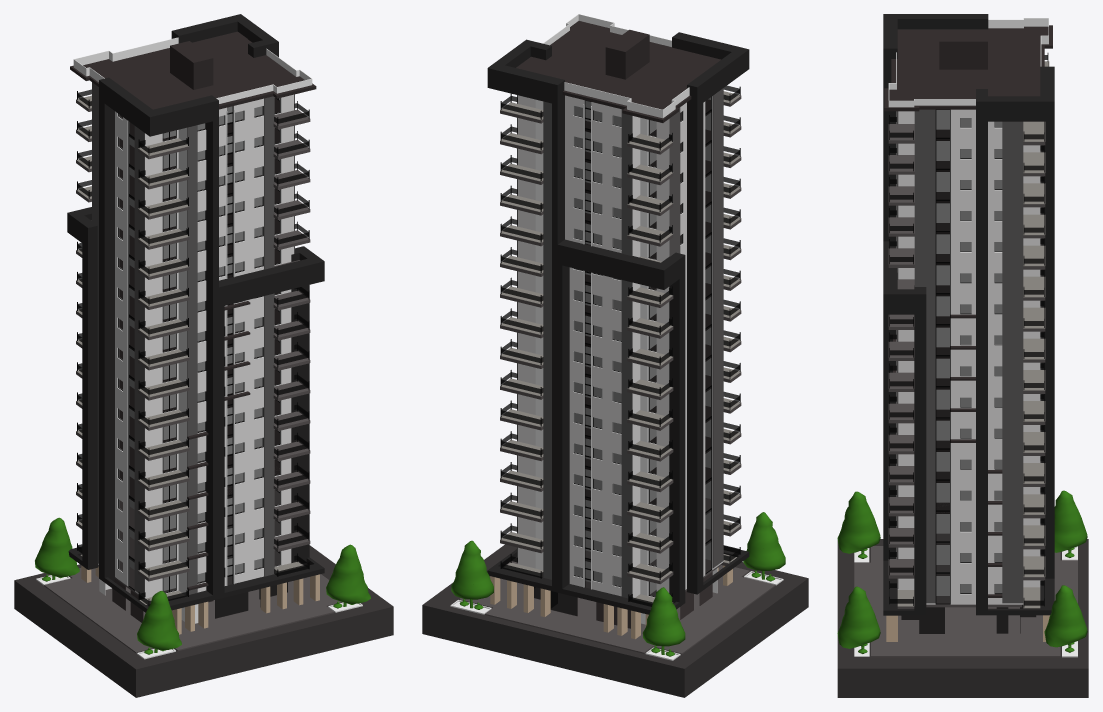
Rendered from building3.glb.
The picture shows the model from 3 angles, left to right: view 1: azimuth 30°, elevation 25°; view 2: azimuth 150°, elevation 25°; view 3: azimuth 270°, elevation 25°; orthographic projection. The views are drawn at different scales.
Parts seen in each view (by area): view 1: Box580, Box625, Box585_Wall Paint_0, Line216, Line217, Line213, Box589_Wall Paint_0, Box602, Box603, Box609, Line013, Line012 (+25 smaller); view 2: Box625, Box589_Wall Paint_0, Box580, Line216, Line213, Line217, Box588, Box609, Box607, Box606, Line014, Line015 (+23 smaller); view 3: Box588, Box625, Box605, Line217, Line213, Box585_Wall Paint_0, Line216, Box604, Box580, Box620, Foliage001, Foliage004 (+67 smaller).
Boxes of the visible parts, left/top/right/bottom form: Box580: left=99, top=77, right=218, bottom=612; Box625: left=14, top=545, right=393, bottom=697; Box585_Wall Paint_0: left=219, top=246, right=324, bottom=598; Line216: left=129, top=106, right=262, bottom=590; Line217: left=44, top=563, right=342, bottom=653; Line213: left=70, top=31, right=316, bottom=109; Box589_Wall Paint_0: left=67, top=207, right=98, bottom=569; Box602: left=264, top=96, right=274, bottom=576; Box603: left=187, top=125, right=197, bottom=594; Box609: left=134, top=126, right=144, bottom=597; Line013: left=115, top=185, right=293, bottom=236; Line012: left=115, top=215, right=293, bottom=266; Box625: left=422, top=544, right=808, bottom=697; Box589_Wall Paint_0: left=556, top=239, right=685, bottom=614; Box580: left=672, top=32, right=749, bottom=594; Line216: left=535, top=99, right=656, bottom=595; Line213: left=516, top=21, right=720, bottom=122; Line217: left=459, top=557, right=775, bottom=654; Box588: left=487, top=39, right=564, bottom=591; Box609: left=712, top=88, right=723, bottom=568; Box607: left=621, top=109, right=632, bottom=598; Box606: left=543, top=101, right=551, bottom=579; Line014: left=518, top=140, right=712, bottom=201; Line015: left=518, top=109, right=712, bottom=170; Box588: left=976, top=66, right=1054, bottom=615; Box625: left=837, top=539, right=1088, bottom=697; Box605: left=1002, top=121, right=1023, bottom=603; Line217: left=854, top=546, right=1077, bottom=657; Line213: left=884, top=25, right=1052, bottom=111; Box585_Wall Paint_0: left=883, top=241, right=926, bottom=615; Line216: left=936, top=110, right=1002, bottom=595; Box604: left=914, top=109, right=935, bottom=603; Box580: left=883, top=14, right=988, bottom=241; Box620: left=939, top=32, right=987, bottom=69; Foliage001: left=837, top=586, right=880, bottom=648; Foliage004: left=837, top=491, right=880, bottom=553.
Size of the model in its own units: 26.82 by 56.98 by 21.97.
